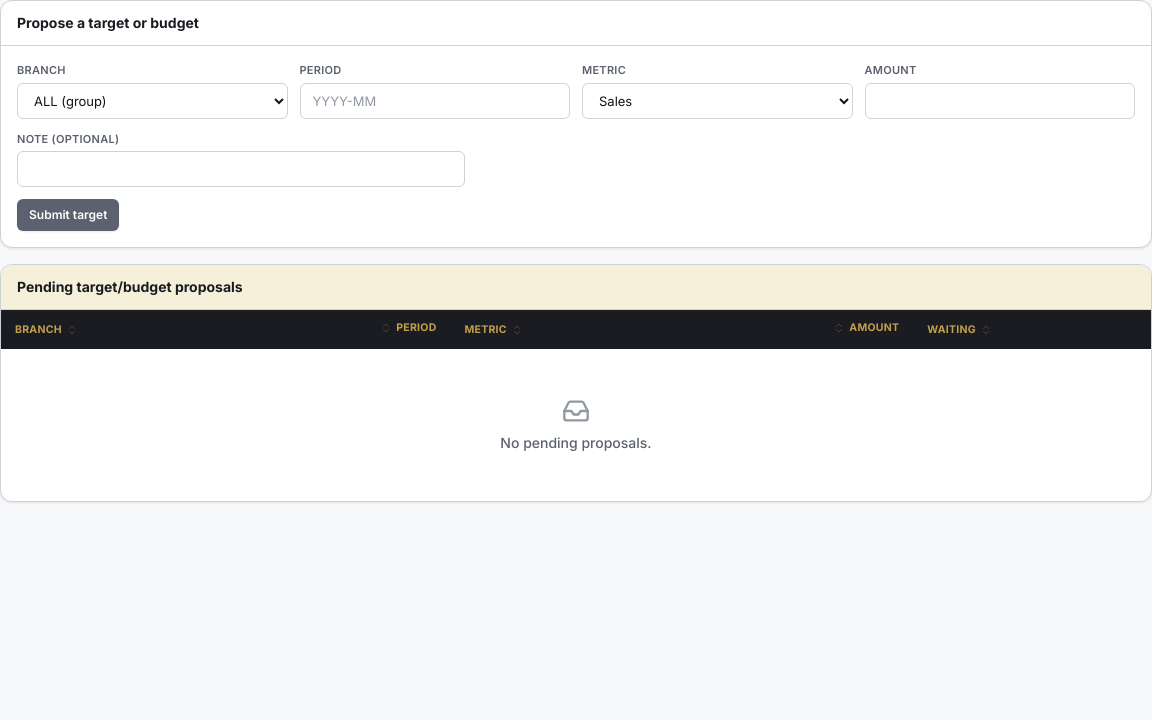
it: TargetsBudgets container › files a target_budget change-request on submit
Type "2026-07" into the field named "Period (YYYY-MM)" at (435, 100), box [300,82,570,118]
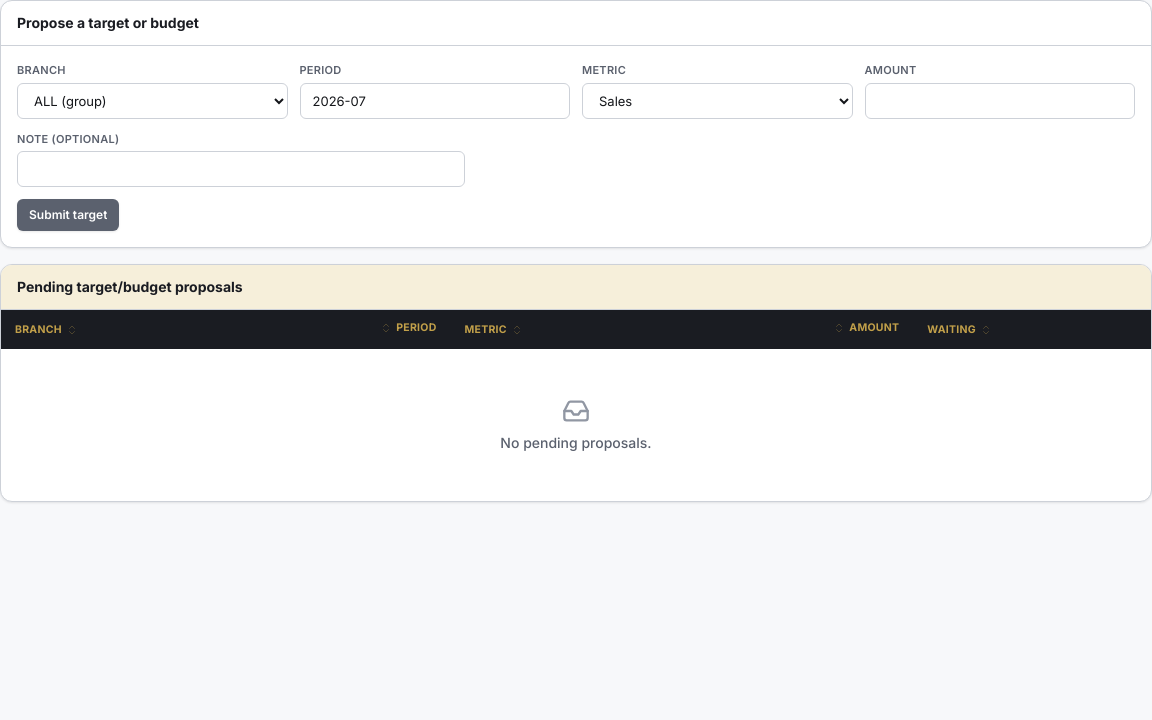
Type "1000000" into the number field named "Amount" at (1000, 100), box [864,82,1135,118]
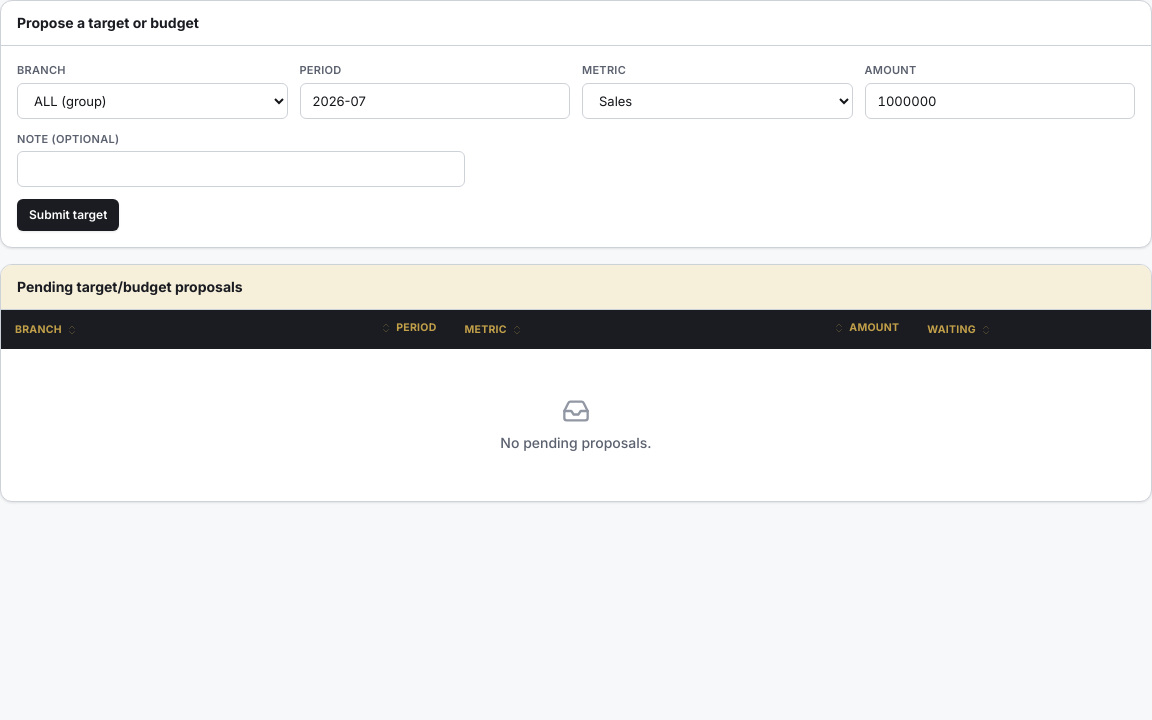
Click the button "Submit target" at (68, 215), box [17,199,119,231]
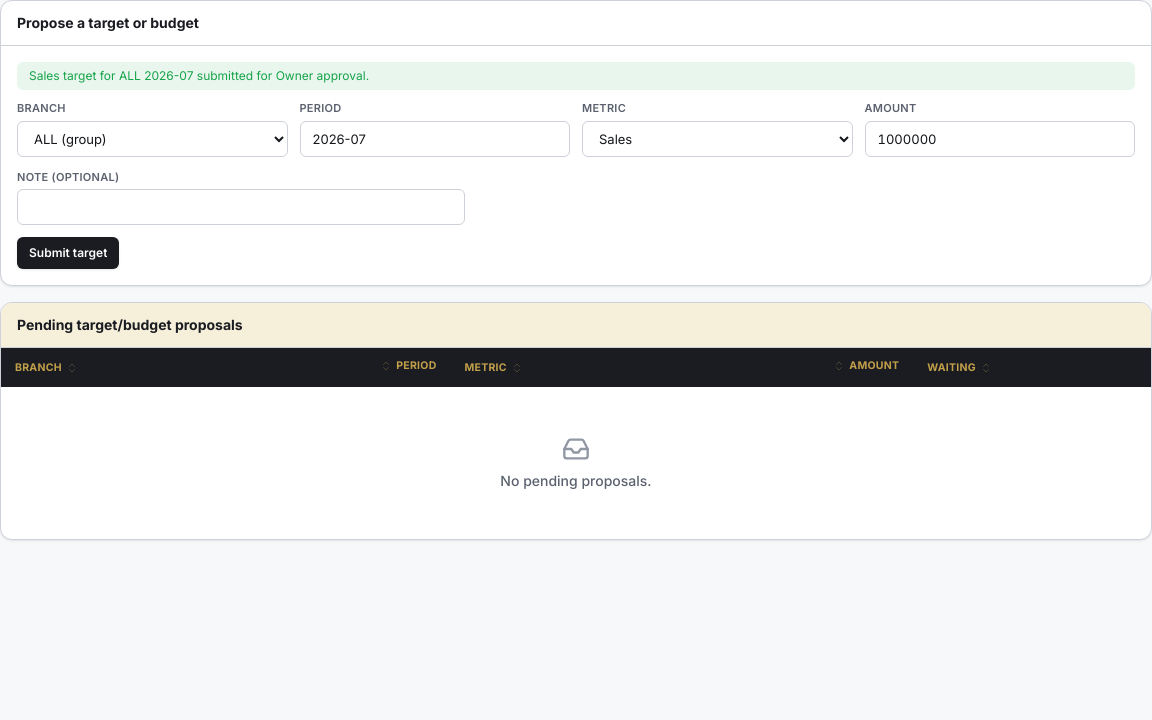
Now the message shows "Owner approval", box [29,68,369,83]
